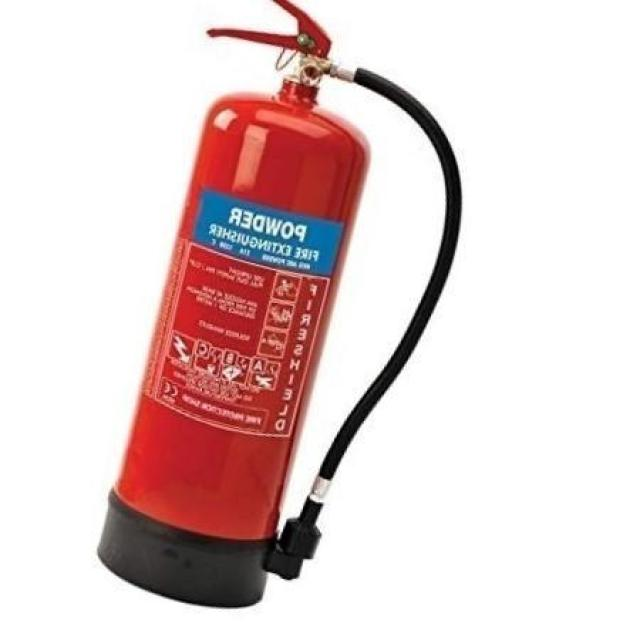fire_extinguisher: (86, 0, 474, 613)
